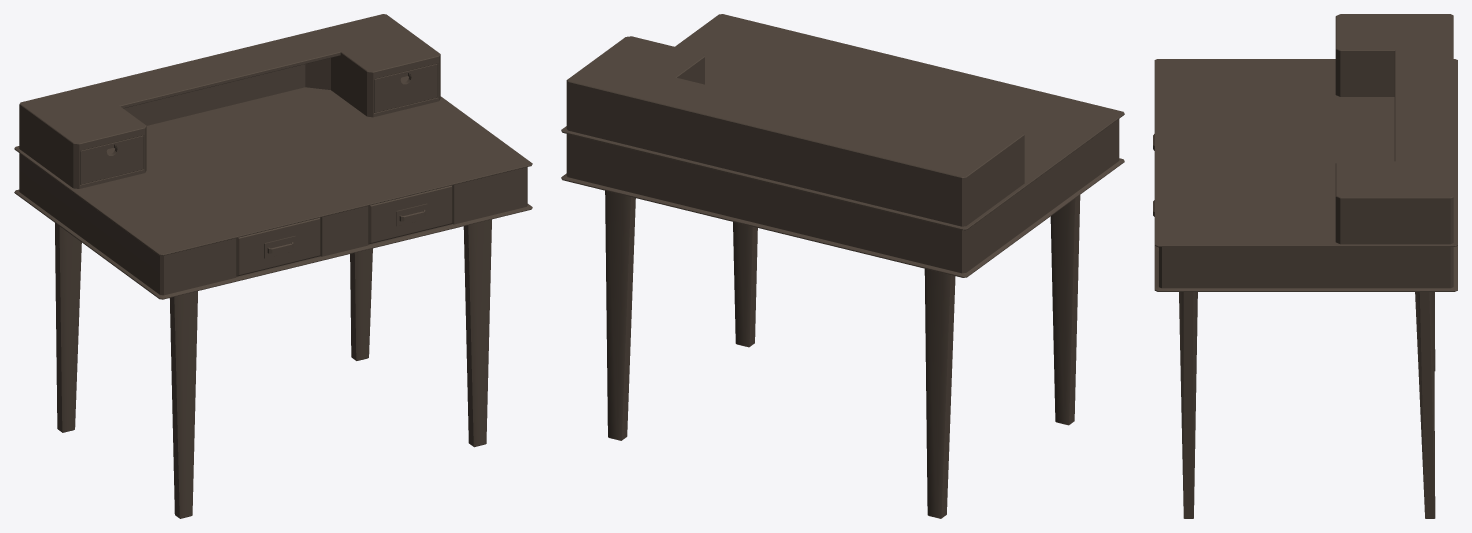
Rendered from desk_lowpoly.fbx.
3 renders of one model, left to right at view 1: azimuth 30°, elevation 25°; view 2: azimuth 150°, elevation 25°; view 3: azimuth 270°, elevation 25°, orthographic. The views are drawn at different scales.
Parts seen in each view (by area): view 1: desk_body_low, lb_drawer_low, rb_drawer_low, lt_drawer_low, rt_drawer_low; view 2: desk_body_low; view 3: desk_body_low.
Part boxes in pixels (bbox=[...]): desk_body_low: bbox=[14, 14, 532, 518]; lb_drawer_low: bbox=[236, 217, 320, 276]; rb_drawer_low: bbox=[368, 185, 452, 244]; lt_drawer_low: bbox=[80, 135, 143, 184]; rt_drawer_low: bbox=[374, 64, 437, 112]; desk_body_low: bbox=[561, 14, 1124, 518]; desk_body_low: bbox=[1154, 14, 1457, 518].
Bounding box in the file's own units: 104 × 87 × 71.4.
